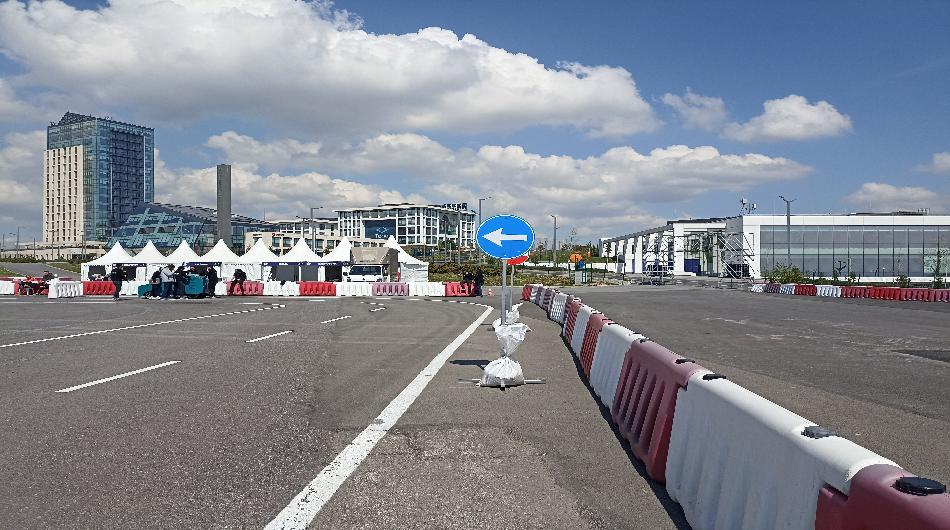sola_mecburi_1: (472, 212, 538, 261)
